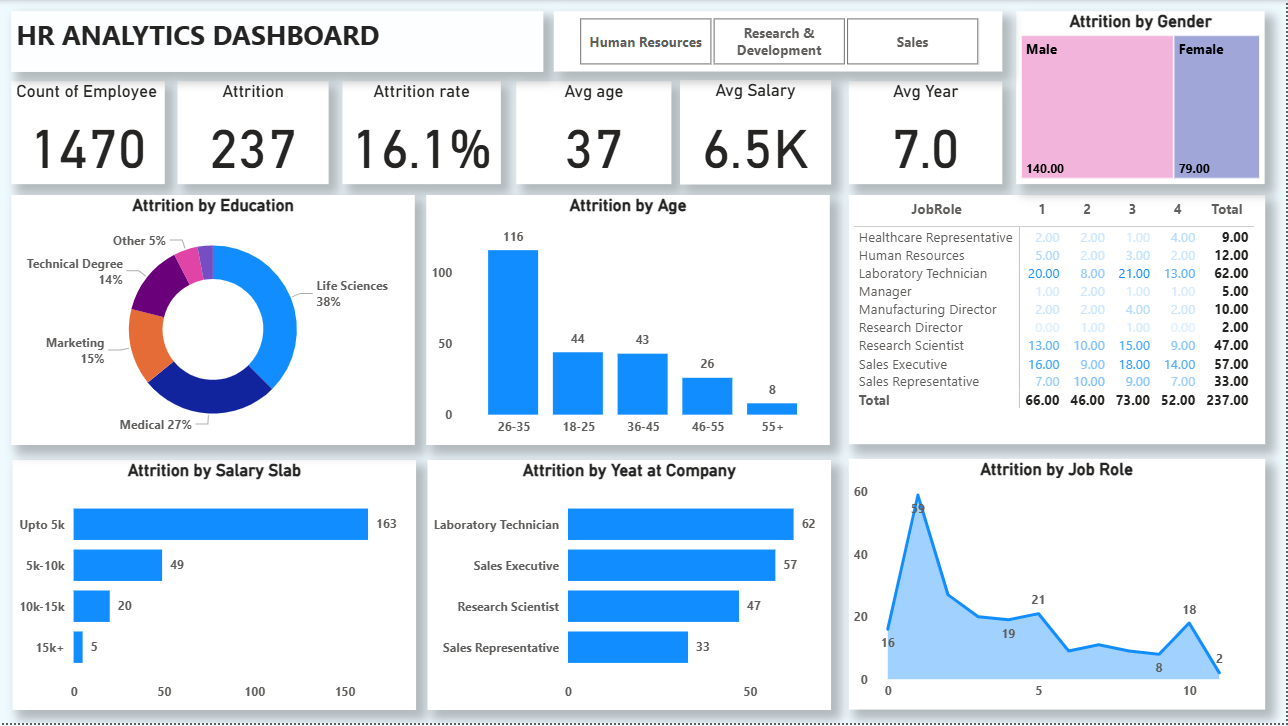

The page's visual inventory and layout, read from the dashboard file:
{"tool":"powerbi","page":{"name":"Page 1","canvas":[1280,720],"ordinal":0},"visuals":[{"type":"card","title":"Count of Employee","fields":{"Values":["CountNonNull(HR_Analytics (2).EmpID)"]},"box":[11.3,80.8,153.1,102.1],"z":0},{"type":"card","title":"Attrition","fields":{"Values":["Sum(HR_Analytics (2).Attrition_Count)"]},"box":[177.2,80.8,150.3,102.1],"z":1000},{"type":"card","title":"Attrition rate","fields":{"Values":["HR_Analytics (2).Attritionrate"]},"box":[340.3,80.8,157.4,102.1],"z":2000},{"type":"card","title":"Avg age","fields":{"Values":["Avg(HR_Analytics (2).Age)"]},"box":[513.2,80.8,154.5,102.1],"z":3000},{"type":"card","title":"Avg Salary","fields":{"Values":["Avg(HR_Analytics (2).MonthlyIncome)"]},"box":[676.2,80,150,103.8],"z":4000},{"type":"card","title":"Avg Year","fields":{"Values":["Avg(HR_Analytics (2).YearsAtCompany)"]},"box":[845,80.8,153.1,102.1],"z":5000},{"type":"textbox","box":[11.2,11.2,529.9,59.7],"z":6000},{"type":"barChart","title":" Attrition by Salary Slab","fields":{"Category":["HR_Analytics (2).SalarySlab"],"Y":["Sum(HR_Analytics (2).Attrition_Count)"]},"box":[12.4,457.8,401.8,248.8],"z":7000},{"type":"donutChart","title":" Attrition by Education","fields":{"Category":["HR_Analytics (2).EducationField"],"Y":["Sum(HR_Analytics (2).Attrition_Count)"]},"box":[11.2,194.1,401.8,248.8],"z":8000},{"type":"pivotTable","fields":{"Columns":["HR_Analytics (2).JobSatisfaction"],"Rows":["HR_Analytics (2).JobRole"],"Values":["Sum(HR_Analytics (2).Attrition_Count)"]},"box":[845,194.2,414,248.1],"z":9000},{"type":"columnChart","title":" Attrition by Age","fields":{"Category":["HR_Analytics (2).AgeGroup"],"Y":["Sum(HR_Analytics (2).Attrition_Count)"]},"box":[424.2,194.1,401.8,248.8],"z":10000},{"type":"barChart","title":" Attrition by Yeat at Company","fields":{"Category":["HR_Analytics (2).JobRole"],"Y":["Sum(HR_Analytics (2).Attrition_Count)"]},"box":[425.4,457.8,401.8,248.8],"z":11000},{"type":"areaChart","title":" Attrition by Job Role","fields":{"Category":["HR_Analytics (2).YearsAtCompany"],"Y":["Sum(HR_Analytics (2).Attrition_Count)"]},"box":[845,456.5,414,249.5],"z":12000},{"type":"treemap","title":" Attrition by Gender","fields":{"Group":["HR_Analytics (2).Gender"],"Values":["Sum(HR_Analytics (2).Attrition_Count)"]},"box":[1011.3,11.2,247.5,171.7],"z":13000},{"type":"slicer","fields":{"Values":["HR_Analytics (2).Department"]},"box":[551.1,11.2,446.6,59.7],"z":14000}]}

Visuals, with their boxes in screenshot pixels (x1, y1, x2, y2), scaled from the page's 1280x720 canvas onto the 1288x726 screenshot:
"Count of Employee" card: detection(11, 81, 165, 184)
"Attrition" card: detection(178, 81, 330, 184)
"Attrition rate" card: detection(342, 81, 501, 184)
"Avg age" card: detection(516, 81, 672, 184)
"Avg Salary" card: detection(680, 81, 831, 185)
"Avg Year" card: detection(850, 81, 1004, 184)
textbox: detection(11, 11, 544, 71)
" Attrition by Salary Slab" barChart: detection(12, 462, 417, 712)
" Attrition by Education" donutChart: detection(11, 196, 416, 447)
pivotTable - HR_Analytics (2).JobSatisfaction x HR_Analytics (2).JobRole: detection(850, 196, 1267, 446)
" Attrition by Age" columnChart: detection(427, 196, 831, 447)
" Attrition by Yeat at Company" barChart: detection(428, 462, 832, 712)
" Attrition by Job Role" areaChart: detection(850, 460, 1267, 712)
" Attrition by Gender" treemap: detection(1018, 11, 1267, 184)
slicer - HR_Analytics (2).Department: detection(555, 11, 1004, 71)
